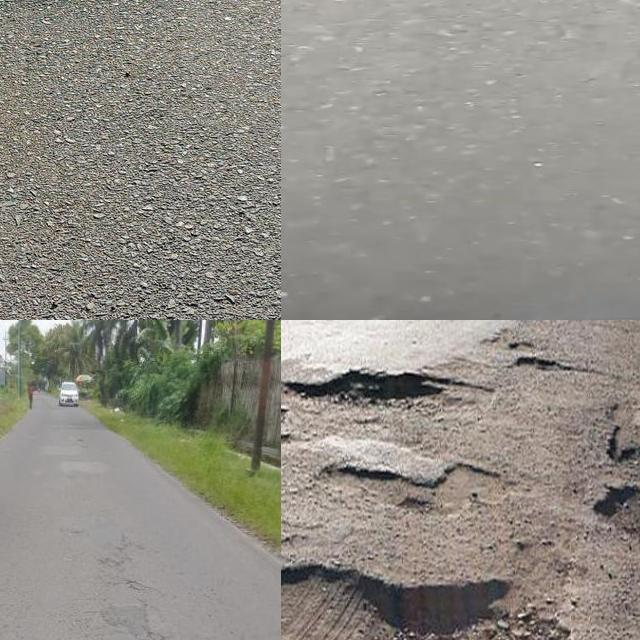Lubang: (281, 561, 567, 640), (281, 372, 479, 438)
